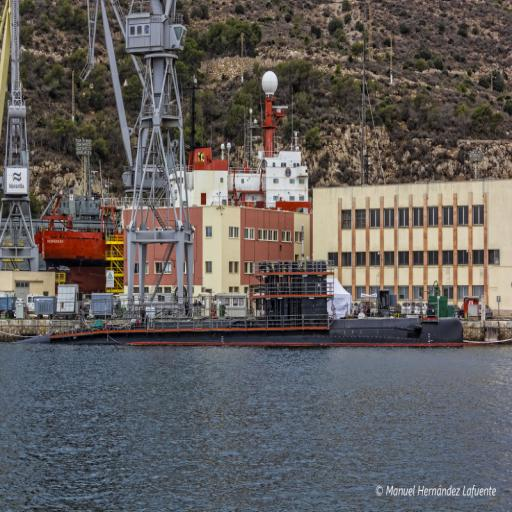submarine: (46, 261, 470, 349)
